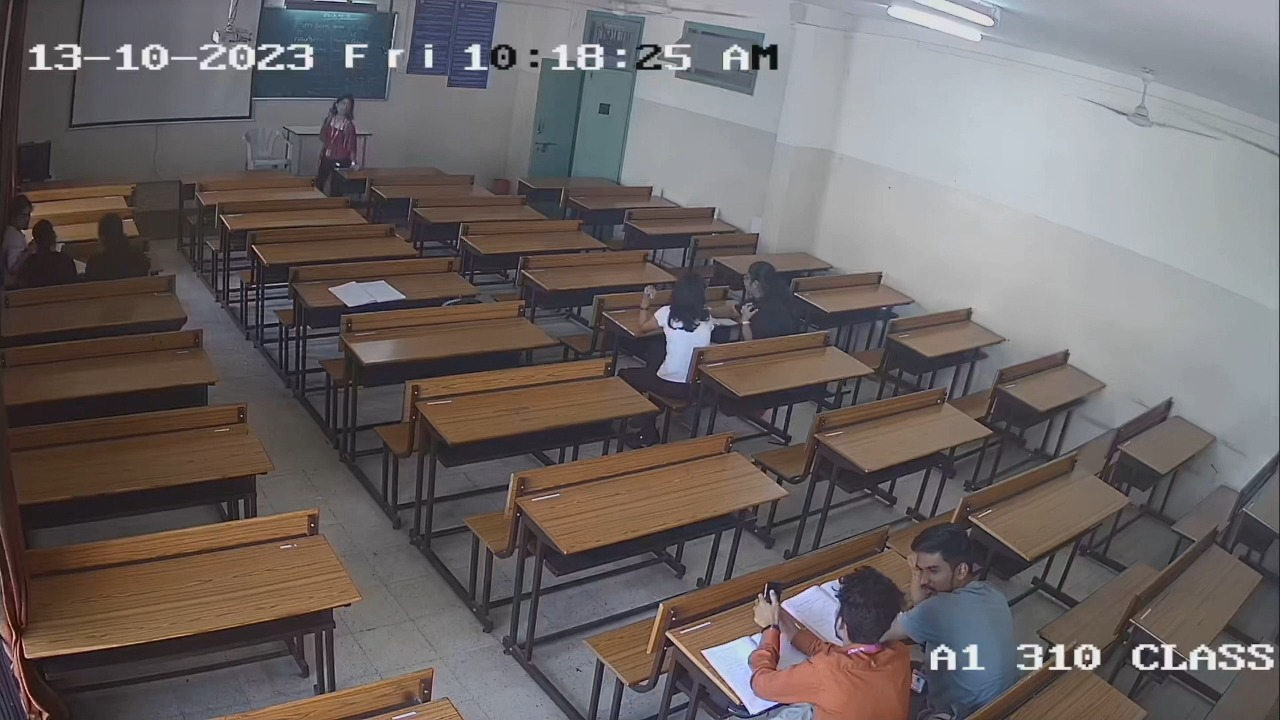cell-phones: (761, 579, 789, 609)
person: (752, 562, 908, 720)
